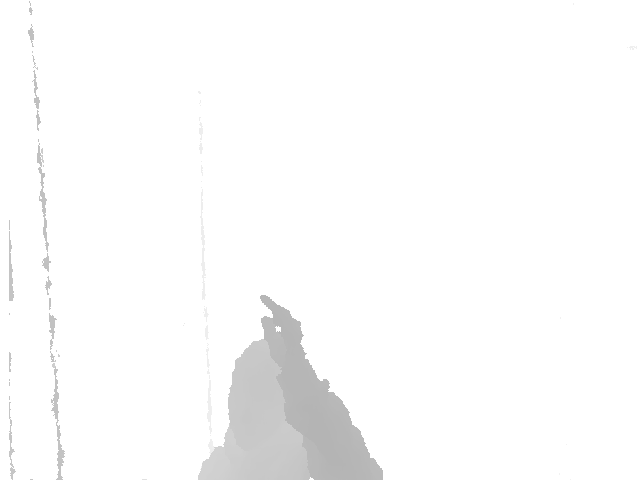hand: (258, 291, 308, 369)
head: (224, 336, 309, 445)
person: (200, 293, 386, 480)
